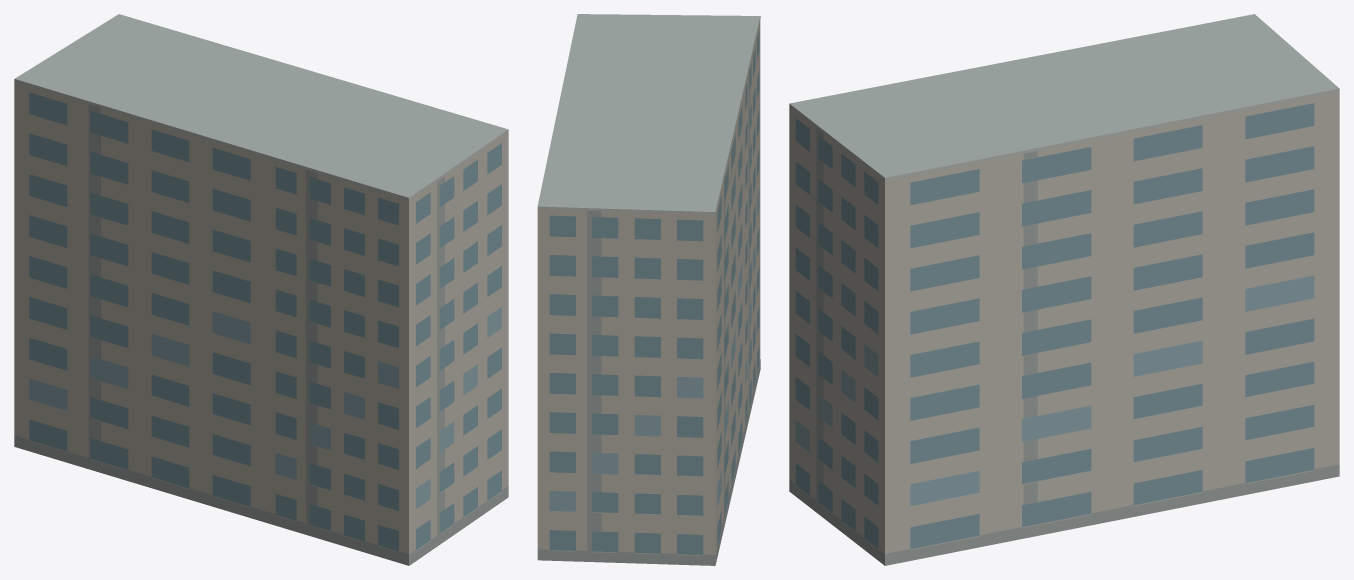
The model's file is residential-f75aa785-65f6-4750-9daf-a2405cb3e376.glb.
3 views of the same model, side by side, from view 1: azimuth 30°, elevation 25°; view 2: azimuth 150°, elevation 25°; view 3: azimuth 270°, elevation 25° (orthographic). The views are drawn at different scales.
Parts seen in each view (by area): view 1: residential-f75aa785-65f6-4750-9daf-a2405cb3e376.tmp; view 2: residential-f75aa785-65f6-4750-9daf-a2405cb3e376.tmp; view 3: residential-f75aa785-65f6-4750-9daf-a2405cb3e376.tmp.
Boxes of the visible parts, x1,y1,x2,y2 form: residential-f75aa785-65f6-4750-9daf-a2405cb3e376.tmp: (14, 14, 508, 565); residential-f75aa785-65f6-4750-9daf-a2405cb3e376.tmp: (537, 14, 760, 565); residential-f75aa785-65f6-4750-9daf-a2405cb3e376.tmp: (789, 14, 1339, 565).
Size of the model in its own units: 29.93 by 33 by 42.43.
